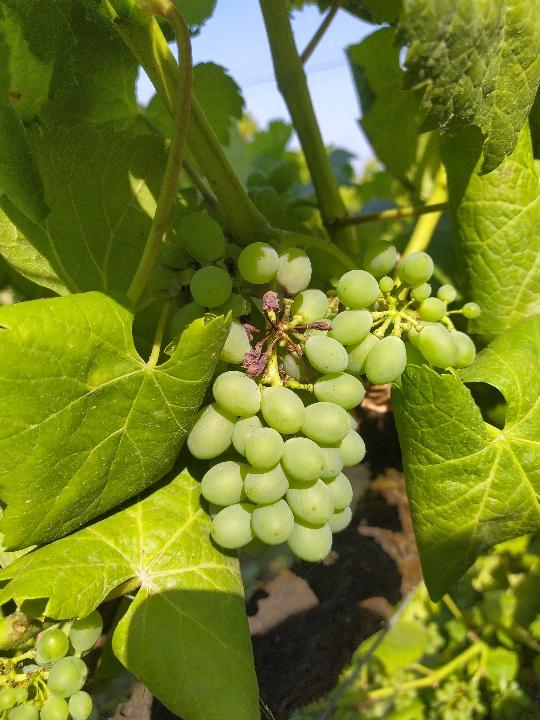grape: (145, 205, 490, 567), (2, 600, 110, 717)
